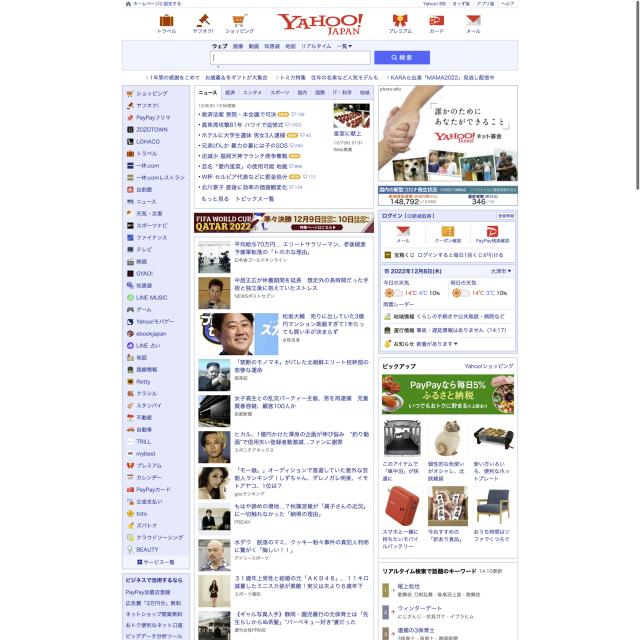input: (210, 51, 370, 64)
logo: (275, 10, 367, 37)
navigation: (122, 86, 190, 556), (153, 11, 260, 35), (383, 13, 488, 36)
